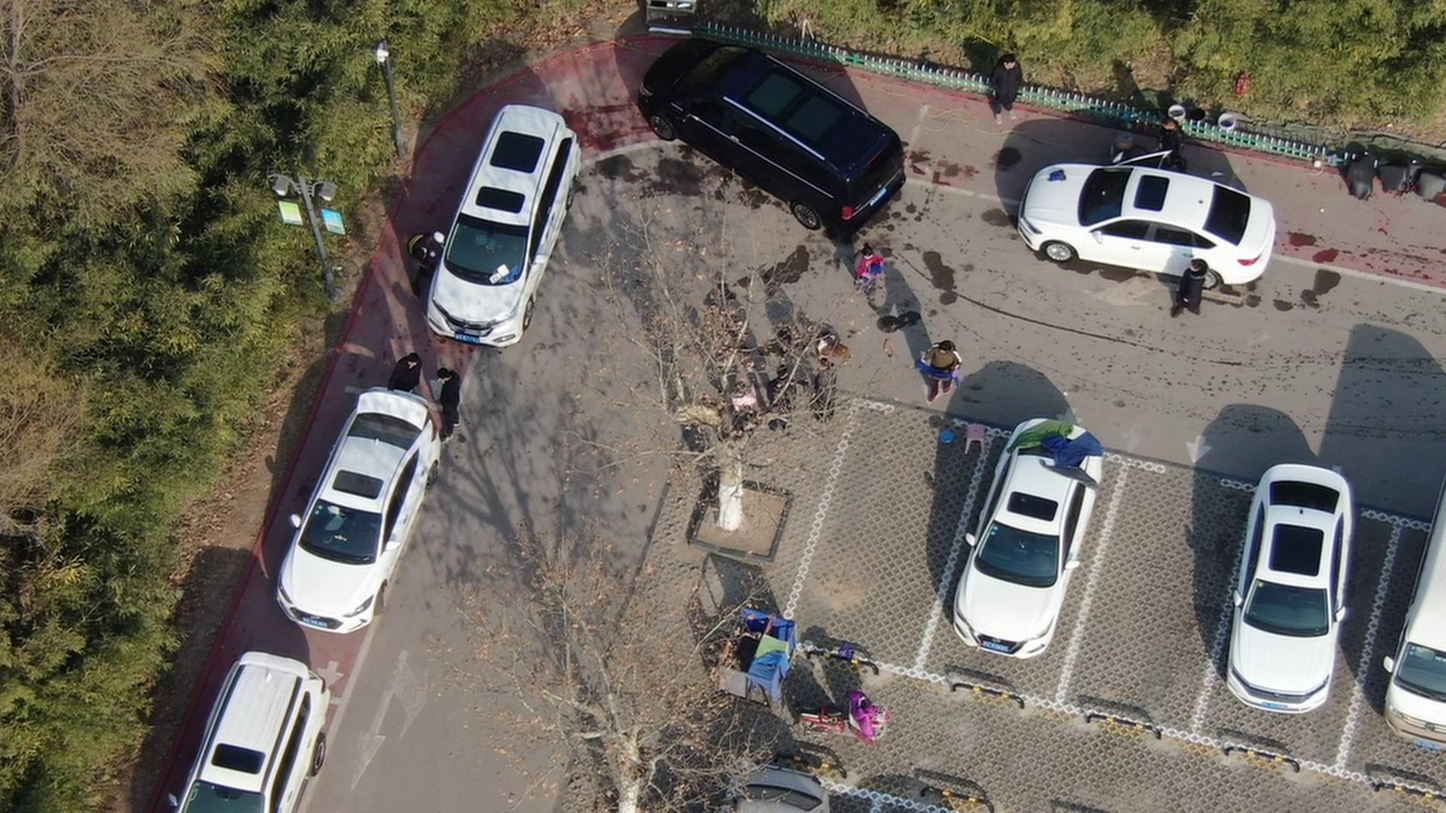human: (928, 336, 969, 408), (853, 241, 894, 312), (409, 229, 448, 300), (440, 367, 471, 450), (771, 360, 806, 433), (1174, 256, 1213, 318), (1000, 50, 1033, 123), (810, 362, 844, 428), (1161, 111, 1196, 166), (395, 348, 425, 397)
